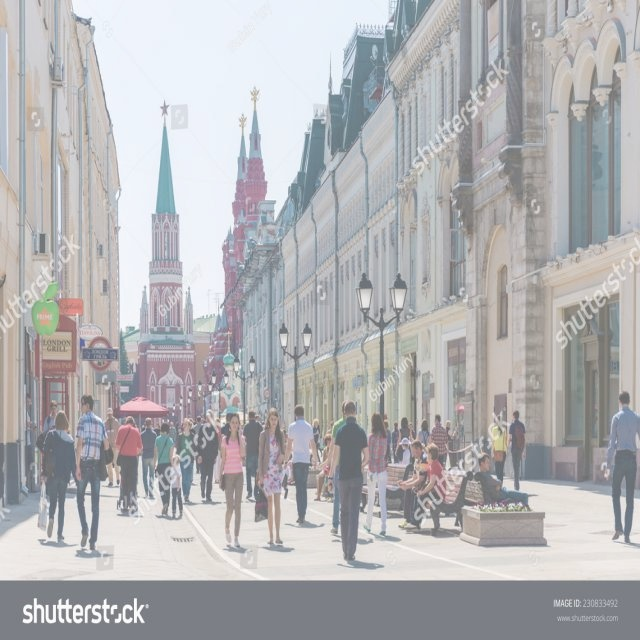pessoa: (326, 398, 370, 563), (602, 388, 640, 546), (74, 392, 111, 552), (36, 408, 80, 540), (252, 406, 287, 546), (217, 410, 251, 548), (282, 403, 319, 524), (402, 441, 447, 531), (360, 410, 388, 538), (112, 413, 144, 515), (396, 438, 430, 528), (477, 451, 529, 506), (326, 400, 346, 536), (196, 407, 220, 502), (153, 422, 175, 516), (242, 410, 264, 501), (176, 417, 197, 502), (506, 409, 527, 492), (140, 416, 158, 500), (490, 414, 510, 486), (103, 408, 121, 487), (313, 432, 333, 502), (26, 391, 38, 488), (430, 413, 450, 471), (329, 532, 404, 546), (444, 418, 465, 468), (394, 416, 414, 464), (169, 453, 184, 516), (282, 433, 294, 501), (213, 416, 223, 484), (334, 558, 386, 571), (220, 410, 232, 460), (256, 540, 296, 554), (310, 418, 322, 464), (42, 399, 58, 433), (33, 537, 79, 548), (74, 548, 115, 560), (282, 519, 326, 530), (416, 417, 432, 447), (407, 422, 417, 468), (390, 421, 400, 464), (383, 419, 392, 463), (398, 436, 411, 466), (222, 542, 249, 555), (316, 424, 324, 458), (192, 415, 205, 435), (254, 413, 267, 431), (135, 454, 140, 498), (168, 421, 177, 442), (133, 420, 146, 432), (150, 422, 160, 436), (325, 420, 335, 434), (176, 419, 184, 435), (188, 416, 196, 429), (201, 414, 206, 427), (122, 416, 128, 426), (222, 421, 226, 427)
